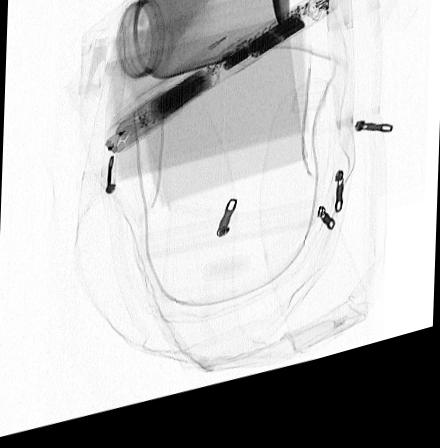Baton: (99, 5, 339, 161)
